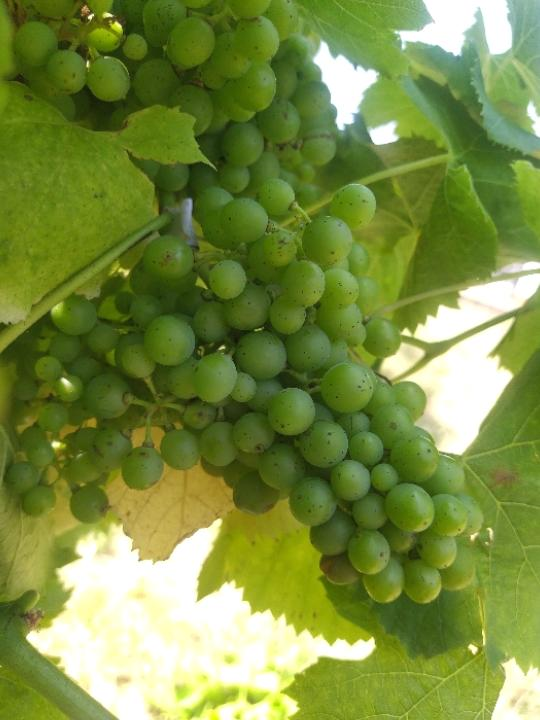grape: (3, 177, 489, 607)
